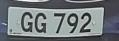2: (79, 10, 93, 35)
7: (52, 12, 66, 34)
9: (66, 12, 80, 35)
G: (34, 12, 48, 34), (20, 12, 34, 33)
